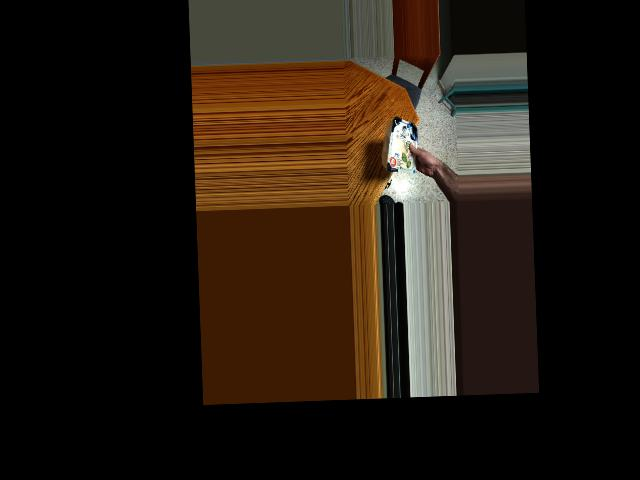cheese: (383, 119, 424, 171)
